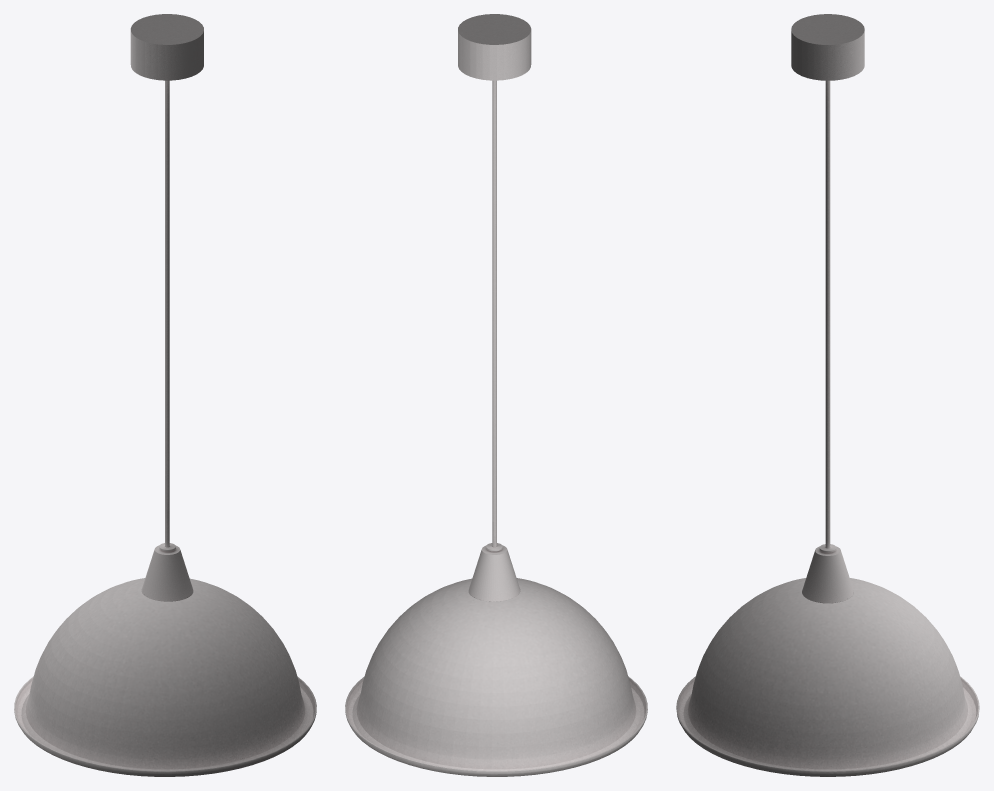
File: tal14_11.glb
The picture shows the model from 3 angles, left to right: view 1: azimuth 30°, elevation 25°; view 2: azimuth 150°, elevation 25°; view 3: azimuth 270°, elevation 25°; orthographic projection.
Parts seen in each view (by area): view 1: Sphere.003, Cylinder.004, Cylinder.006, Cylinder.018; view 2: Sphere.003, Cylinder.004, Cylinder.006, Cylinder.018; view 3: Sphere.003, Cylinder.004, Cylinder.006, Cylinder.018.
Boxes of the visible parts, x1,y1,x2,y2 form: Sphere.003: [14, 578, 316, 776]; Cylinder.004: [130, 14, 203, 80]; Cylinder.006: [165, 80, 169, 547]; Cylinder.018: [141, 545, 193, 601]; Sphere.003: [345, 578, 647, 776]; Cylinder.004: [458, 14, 531, 80]; Cylinder.006: [492, 80, 496, 547]; Cylinder.018: [468, 545, 520, 601]; Sphere.003: [676, 578, 979, 776]; Cylinder.004: [791, 14, 864, 80]; Cylinder.006: [825, 80, 830, 548]; Cylinder.018: [802, 546, 853, 603].
Bounding box in the file's own units: 0.3162 × 0.7892 × 0.3162.
1 material, 1 textured.
